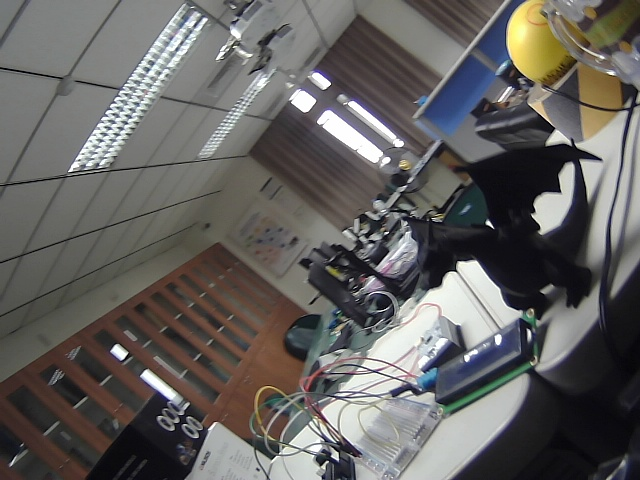charizard: (389, 125, 605, 335)
